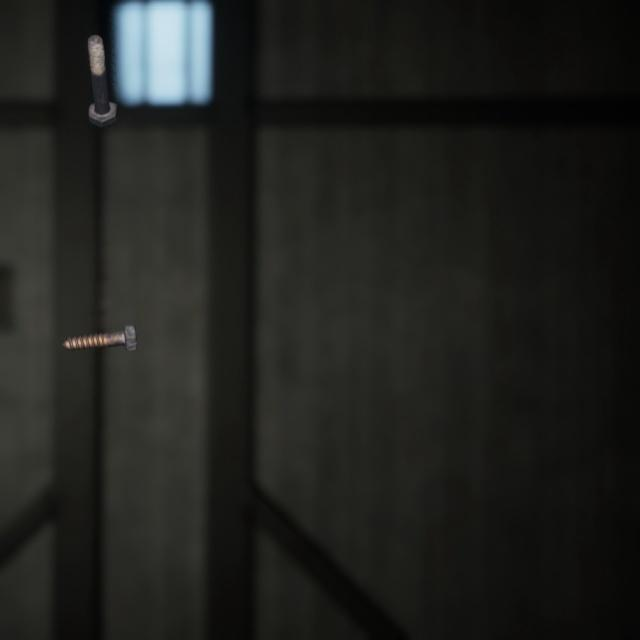bolt: (83, 20, 121, 121), (57, 301, 141, 337)
